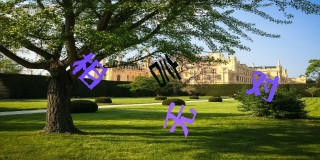对: (247, 68, 279, 101)
无: (162, 101, 198, 138)
相: (69, 51, 107, 89)
言: (149, 53, 182, 87)
